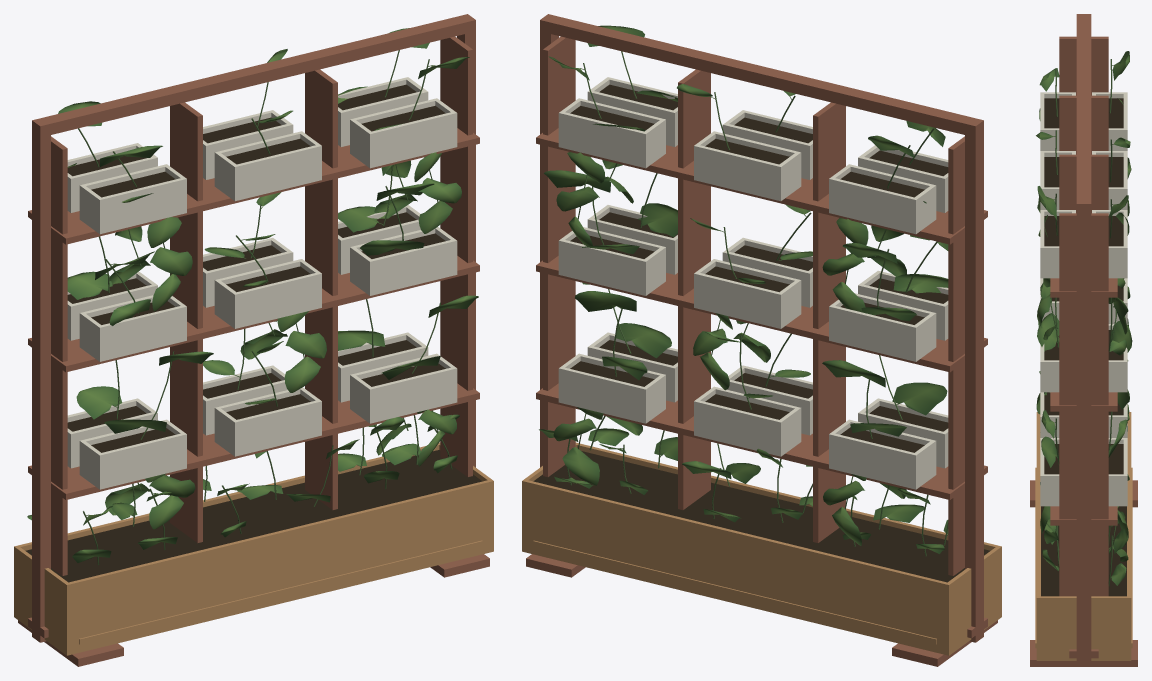
Rendered from botanicalDivider-2.glb.
3 renders of one model, left to right at view 1: azimuth 30°, elevation 25°; view 2: azimuth 150°, elevation 25°; view 3: azimuth 270°, elevation 25°, orthographic. The views are drawn at different scales.
Visible parts, largest first — view 1: Botanical_powdercoat, Botanical_ceramic, Botanical_frame_finish, Botanical_recessed_soil, Botanical_living_foliage, Botanical_connected_stems; view 2: Botanical_powdercoat, Botanical_ceramic, Botanical_frame_finish, Botanical_recessed_soil, Botanical_living_foliage, Botanical_connected_stems; view 3: Botanical_powdercoat, Botanical_ceramic, Botanical_frame_finish, Botanical_recessed_soil, Botanical_living_foliage, Botanical_connected_stems.
Part boxes in pixels (bbox=[...]): Botanical_powdercoat: bbox=[18, 14, 489, 666]; Botanical_ceramic: bbox=[67, 77, 457, 489]; Botanical_frame_finish: bbox=[14, 442, 493, 655]; Botanical_recessed_soil: bbox=[25, 84, 482, 582]; Botanical_living_foliage: bbox=[27, 28, 478, 562]; Botanical_connected_stems: bbox=[78, 50, 452, 565]; Botanical_powdercoat: bbox=[526, 14, 997, 666]; Botanical_ceramic: bbox=[558, 77, 948, 489]; Botanical_frame_finish: bbox=[522, 442, 1001, 655]; Botanical_recessed_soil: bbox=[533, 84, 990, 582]; Botanical_living_foliage: bbox=[539, 25, 948, 553]; Botanical_connected_stems: bbox=[567, 51, 948, 556]; Botanical_powdercoat: bbox=[1030, 14, 1137, 666]; Botanical_ceramic: bbox=[1040, 92, 1127, 506]; Botanical_frame_finish: bbox=[1035, 412, 1132, 660]; Botanical_recessed_soil: bbox=[1041, 98, 1126, 596]; Botanical_living_foliage: bbox=[1036, 51, 1132, 585]; Botanical_connected_stems: bbox=[1050, 59, 1116, 585].
Size of the model in its own units: 2 by 2.3 by 0.48.
